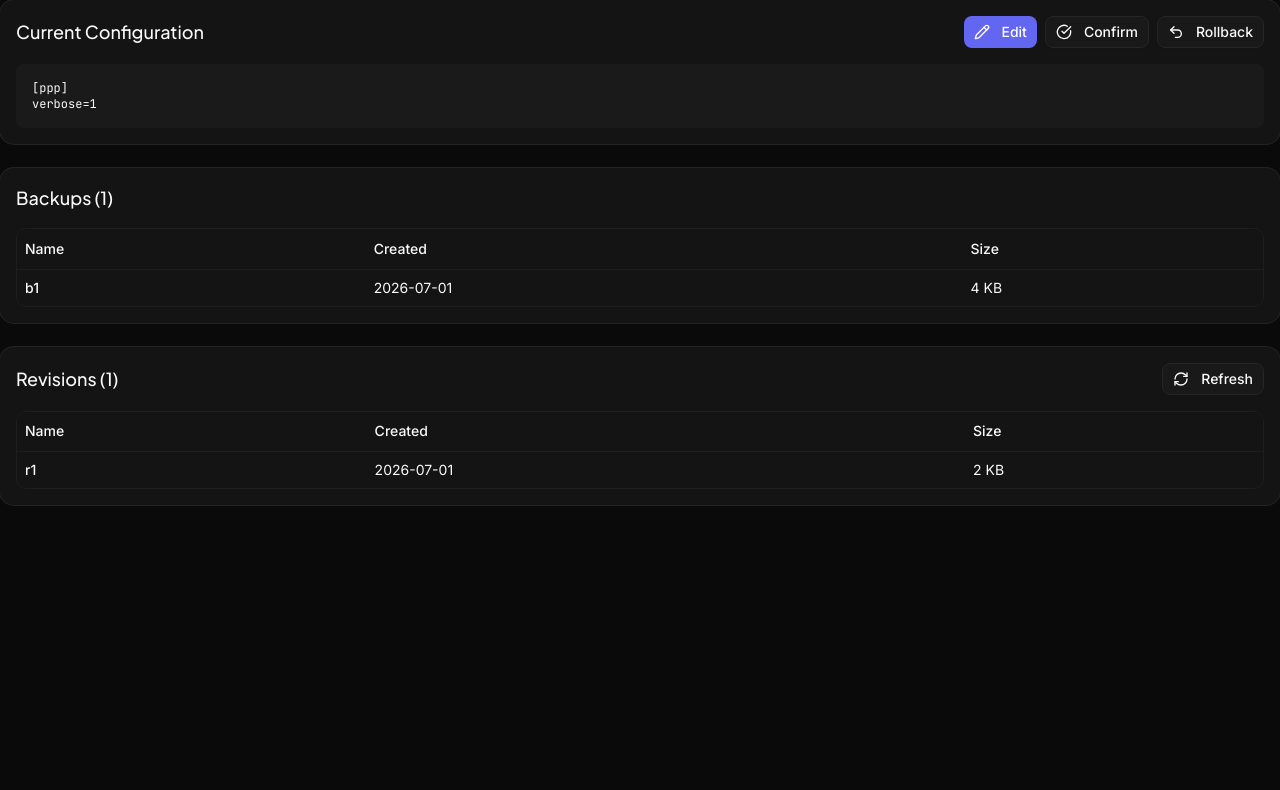
Test case: ConfigPage server validation › shows error result with error field
The image size is (1280, 790).
Click the button "Edit": (1000,32) [964,16,1037,48]
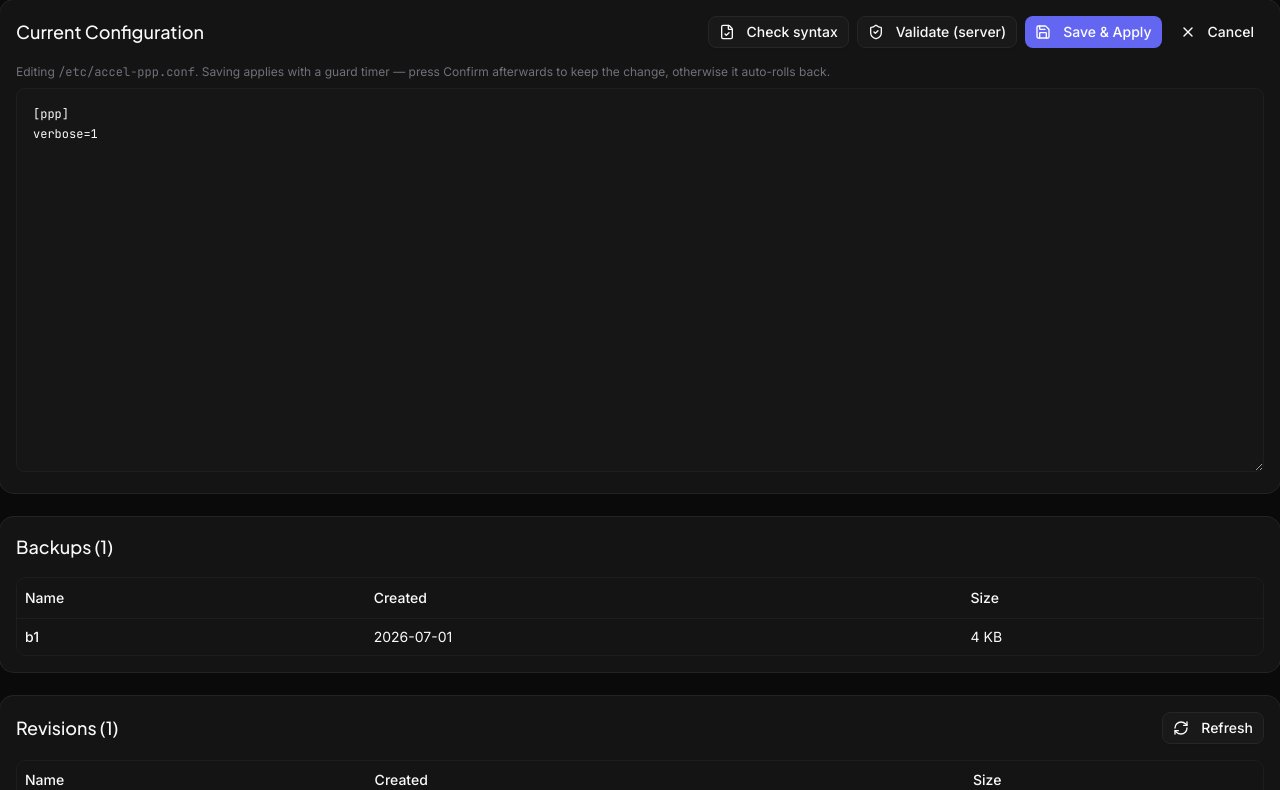
Click the button "Validate (server)": (937,32) [857,16,1017,48]
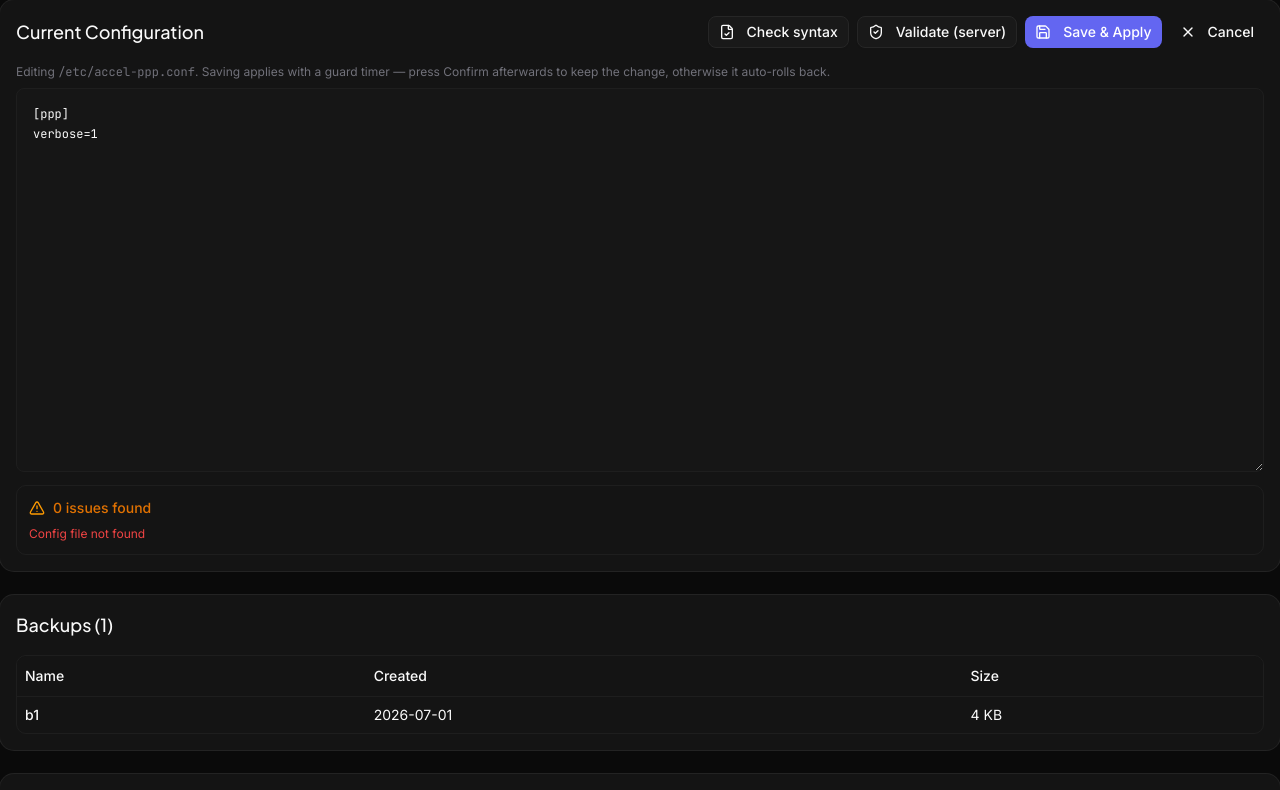
Result: the text "Config file not found" is shown at [29,526,145,541]
